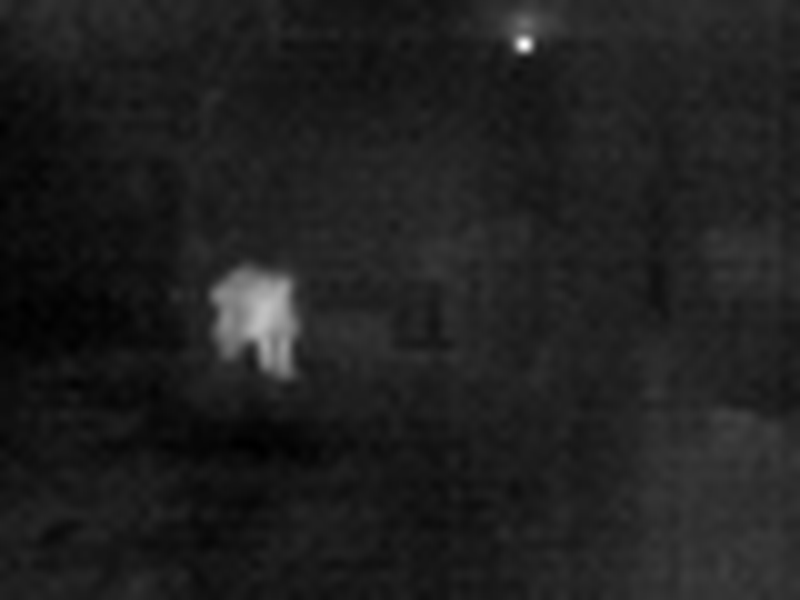elephant: (206, 261, 308, 393)
